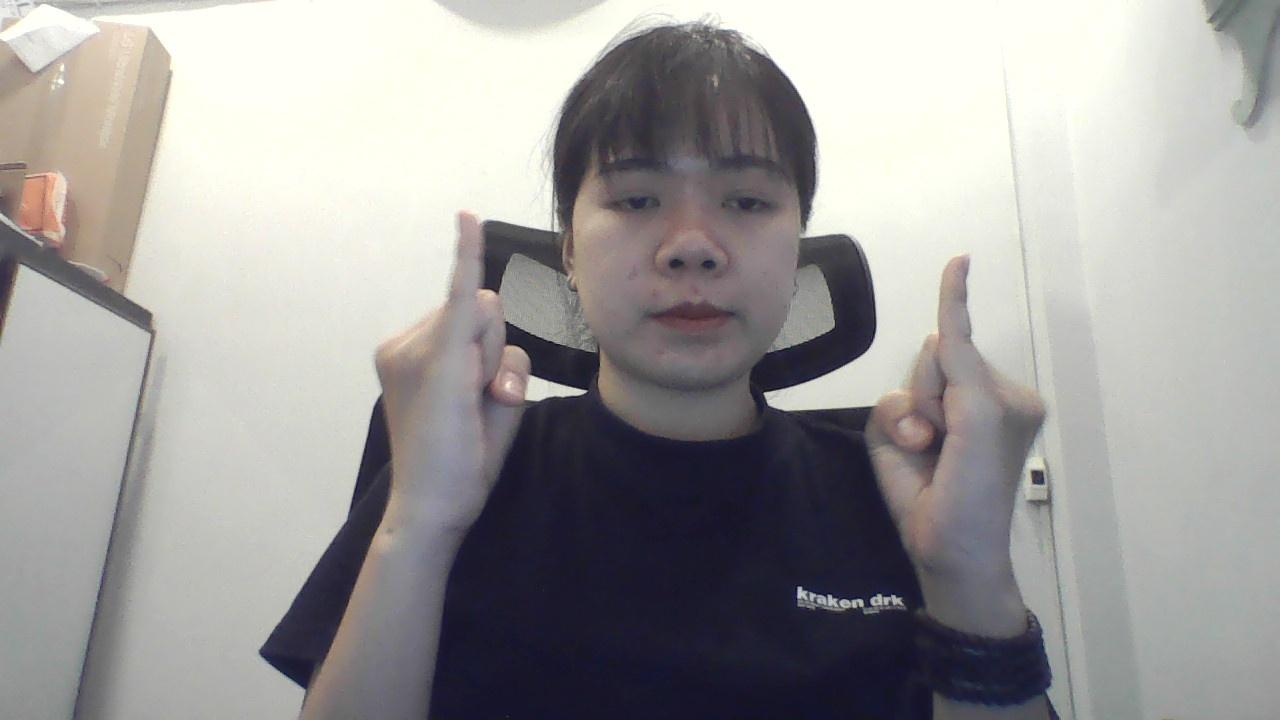I: (840, 242, 1060, 597), (360, 202, 535, 569)
